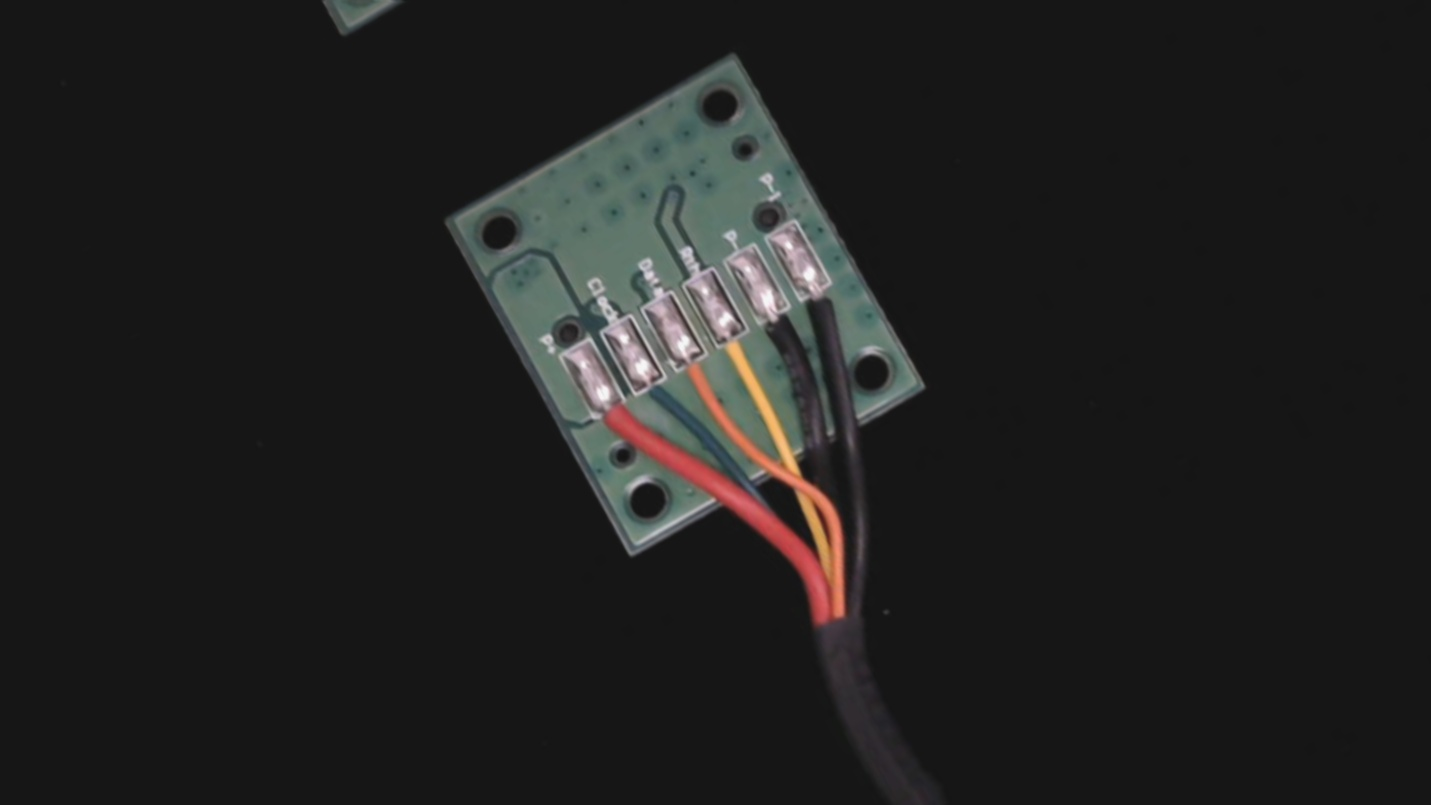Black: (742, 287, 823, 378)
Black1: (785, 265, 868, 355)
Green: (622, 362, 694, 441)
Orange: (658, 330, 743, 424)
Red: (583, 382, 656, 462)
Yellow: (700, 310, 781, 399)
